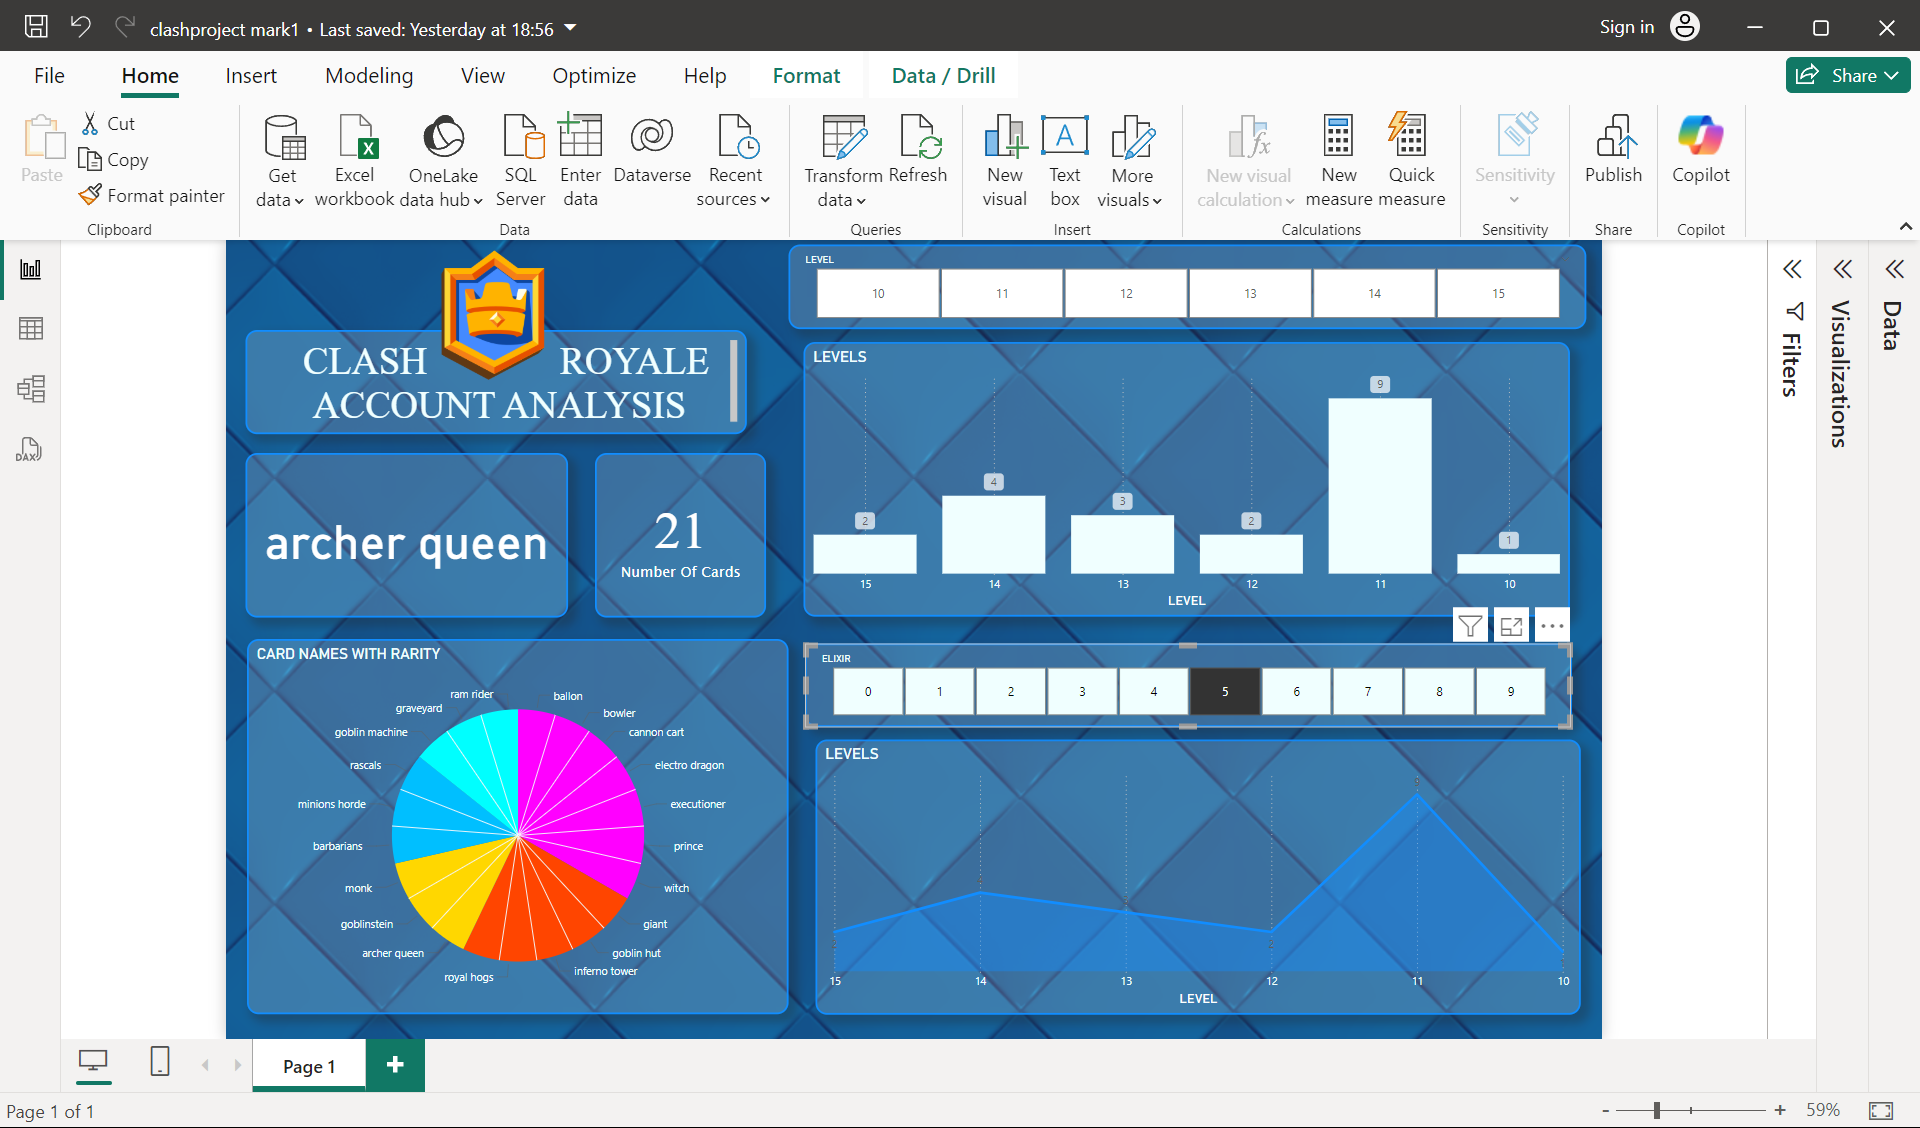

Layout of this report page (visuals, bound fields, positions):
{"tool":"powerbi","page":{"name":"Page 1","canvas":[1550,900],"ordinal":0},"visuals":[{"type":"card","fields":{"Values":["Sheet1.NAME"]},"box":[22,240.2,363.1,185.2],"z":0},{"type":"lineStackedColumnComboChart","title":"LEVELS","fields":{"Category":["Sheet1.LEVEL"],"Y":["Sheet1.NO"]},"box":[651.1,114.9,863.3,309.6],"z":1000},{"type":"textbox","box":[22,100.8,564.8,117.4],"z":2000},{"type":"image","box":[75.2,0,456.6,168.7],"z":3000},{"type":"pieChart","title":"CARD NAMES WITH RARITY","fields":{"Category":["Sheet1.TYPE"],"Series":["Sheet1.NAME"],"Y":["Sheet1.ELIXIR"]},"box":[22.9,449.3,609.9,422.6],"z":4000},{"type":"card","fields":{"Values":["Sheet1.Measure"]},"box":[416.2,240.2,192.5,185.2],"z":5000},{"type":"slicer","fields":{"Values":["Sheet1.ELIXIR"]},"box":[652,455.1,864.2,93.7],"z":6000},{"type":"slicer","fields":{"Values":["Sheet1.LEVEL"]},"box":[632.9,5.7,898.7,95.6],"z":7000},{"type":"areaChart","title":"LEVELS","fields":{"Category":["Sheet1.LEVEL"],"Y":["Sheet1.NO"]},"box":[663.5,562.1,862.3,309.7],"z":8000}]}

Visuals, with their boxes on the page's 1550x900 design canvas (x1, y1, x2, y2). These are canvas units, not pixel positions in the 1920x1128 screenshot, which may show the page scaled, cropped or inside an application window:
card - Sheet1.NAME: 22:240:385:425
"LEVELS" lineStackedColumnComboChart: 651:115:1514:424
textbox: 22:101:587:218
image: 75:0:532:169
"CARD NAMES WITH RARITY" pieChart: 23:449:633:872
card - Sheet1.Measure: 416:240:609:425
slicer - Sheet1.ELIXIR: 652:455:1516:549
slicer - Sheet1.LEVEL: 633:6:1532:101
"LEVELS" areaChart: 664:562:1526:872
